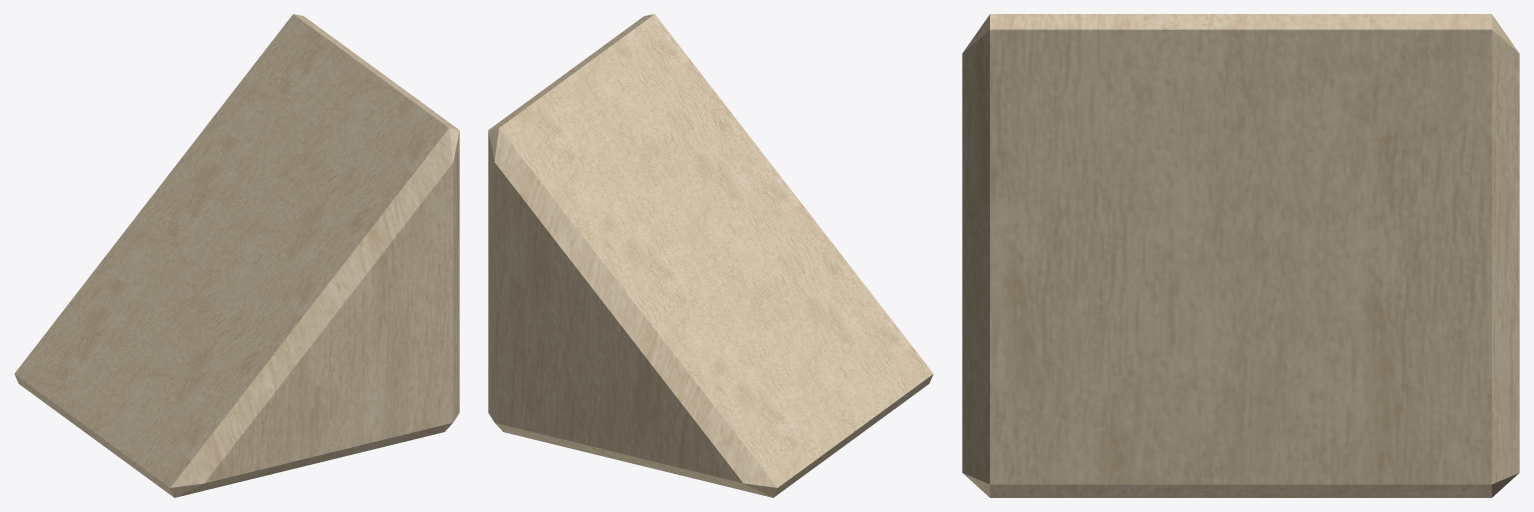
The model's file is angle.glb.
The picture shows the model from 3 angles, left to right: view 1: azimuth 30°, elevation 25°; view 2: azimuth 150°, elevation 25°; view 3: azimuth 270°, elevation 25°; orthographic projection. The views are drawn at different scales.
Parts seen in each view (by area): view 1: angle; view 2: angle; view 3: angle.
Boxes of the visible parts, x1,y1,x2,y2 form: angle: (14, 14, 459, 497); angle: (488, 14, 933, 497); angle: (962, 14, 1519, 497).
Size of the model in its own units: 1.93 by 1.93 by 2.
1 material, 1 textured.
